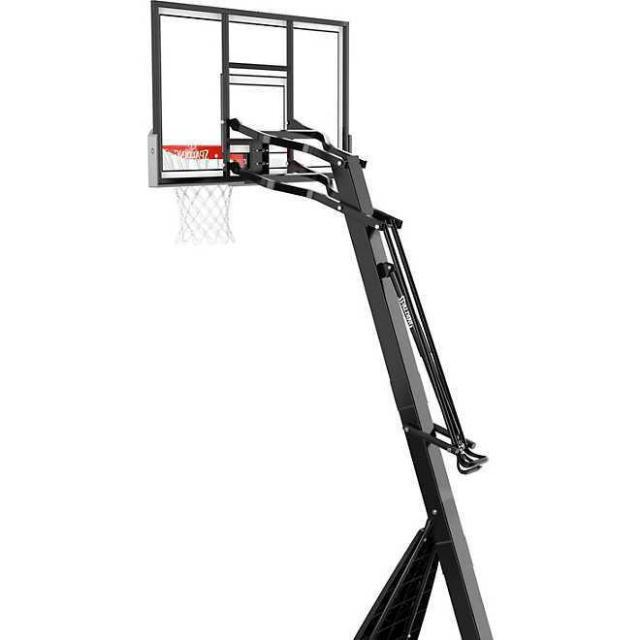hoop: (162, 144, 245, 246)
